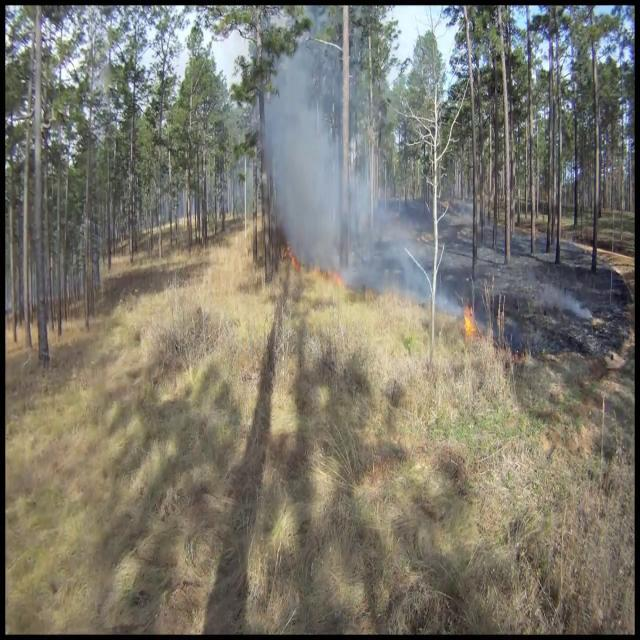Fire: (300, 260, 333, 312), (461, 297, 477, 338)
Smoke: (254, 31, 370, 266), (348, 186, 442, 320)
